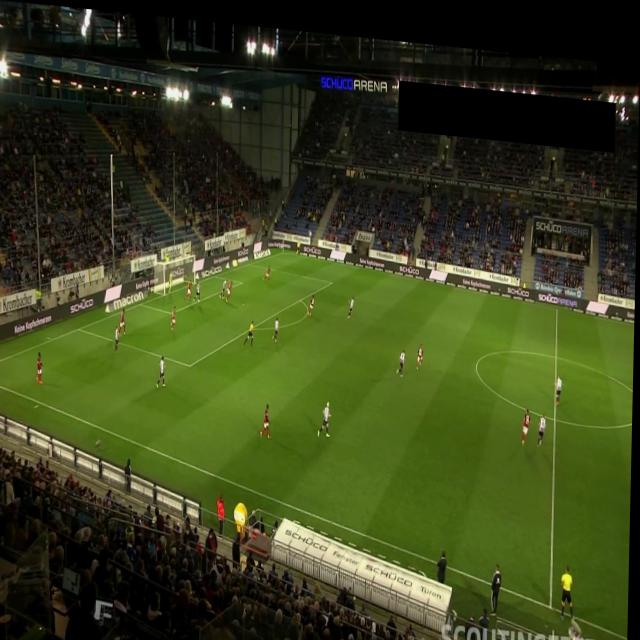goalkeeper: (562, 552, 577, 609), (169, 265, 176, 290)
player: (319, 393, 334, 432), (262, 397, 274, 434), (523, 396, 533, 435), (158, 350, 168, 385), (539, 400, 548, 436), (37, 351, 46, 383), (398, 338, 407, 368), (226, 274, 235, 299), (418, 333, 425, 362), (194, 275, 202, 300), (557, 361, 563, 394), (115, 321, 122, 349), (185, 275, 193, 299), (220, 273, 229, 294), (121, 305, 127, 333), (171, 301, 177, 328), (309, 288, 316, 311), (275, 310, 281, 336), (349, 288, 355, 311), (264, 259, 272, 276)
referee: (245, 313, 256, 342), (297, 232, 302, 249)
